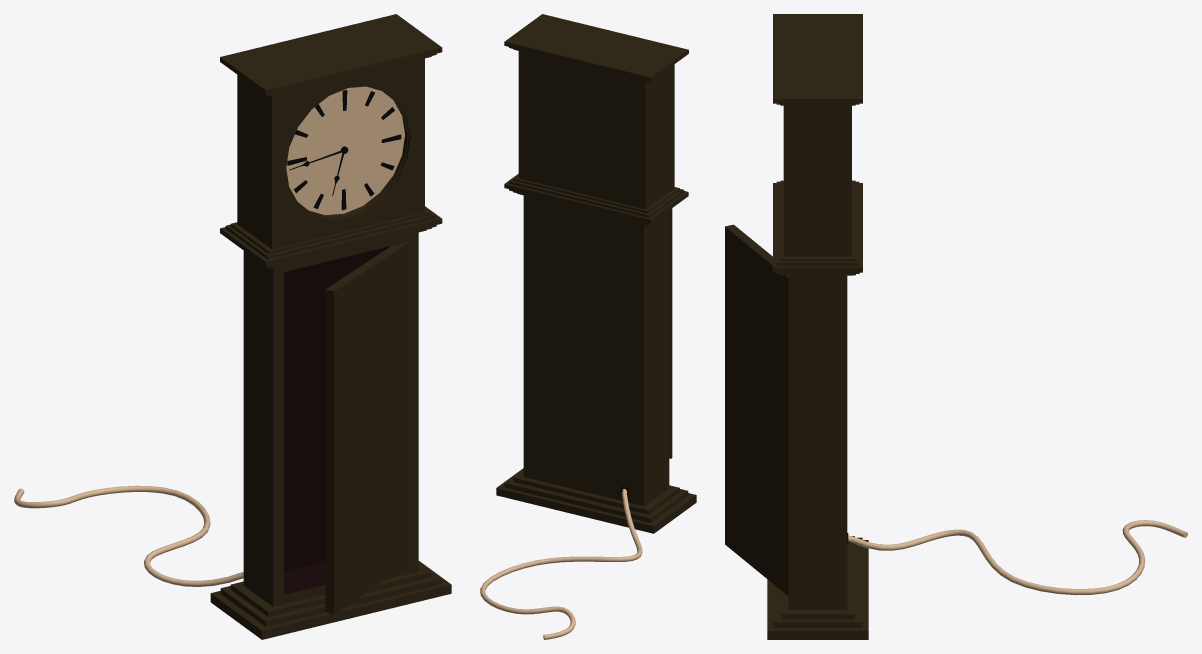
Rendered from clock.obj.
The picture shows the model from 3 angles, left to right: view 1: azimuth 30°, elevation 25°; view 2: azimuth 150°, elevation 25°; view 3: azimuth 270°, elevation 25°; orthographic projection. The views are drawn at different scales.
Parts seen in each view (by area): view 1: pCylinder3 Body, Body Door, cable pCylinder5; view 2: pCylinder3 Body, cable pCylinder5, Body Door; view 3: pCylinder3 Body, Body Door, cable pCylinder5.
Part boxes in pixels (box(x1,y1,x2,y2)): pCylinder3 Body: box(210, 14, 451, 639); Body Door: box(325, 241, 409, 614); cable pCylinder5: box(14, 485, 243, 586); pCylinder3 Body: box(496, 14, 696, 533); cable pCylinder5: box(480, 489, 642, 639); Body Door: box(669, 208, 672, 458); pCylinder3 Body: box(767, 14, 868, 639); Body Door: box(725, 224, 788, 596); cable pCylinder5: box(848, 520, 1187, 595).
Bounding box in the file's own units: 6.7 × 14.8 × 11.49.
